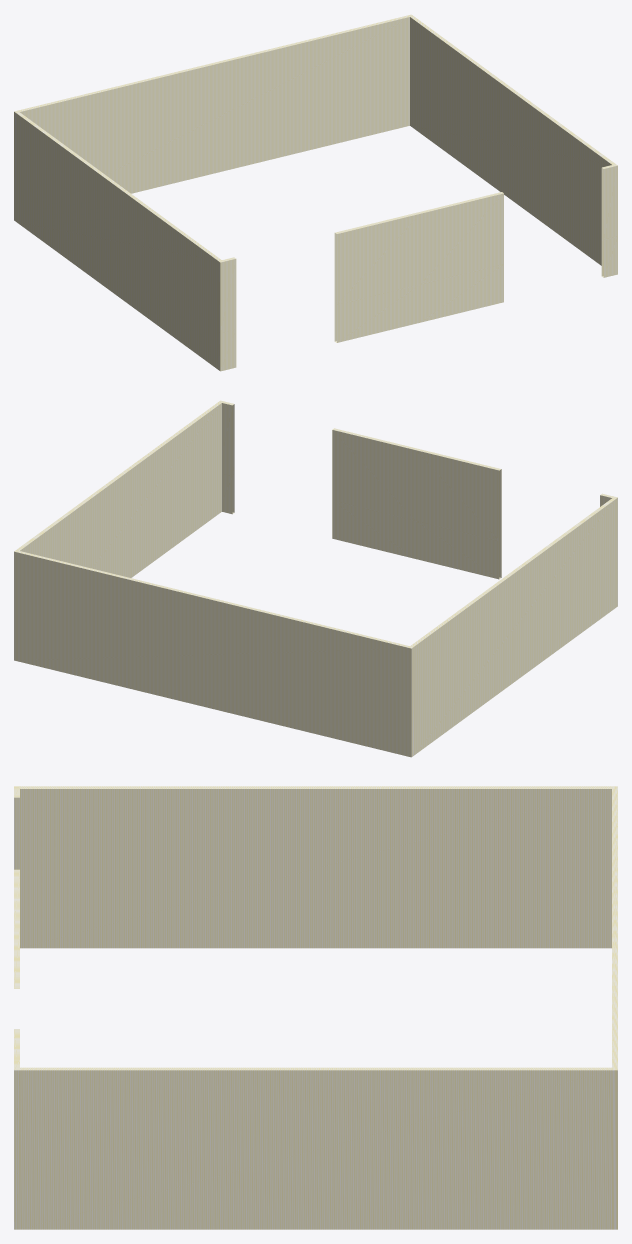
File: FBX_Walls.fbx
The picture shows the model from 3 angles, top to bottom: view 1: azimuth 30°, elevation 25°; view 2: azimuth 150°, elevation 25°; view 3: azimuth 270°, elevation 25°; orthographic projection. The views are drawn at different scales.
Parts seen in each view (by area): view 1: Walls1; view 2: Walls1; view 3: Walls1.
Part boxes in pixels (left/top/right/bottom): Walls1: left=14, top=14, right=617, bottom=371; Walls1: left=14, top=400, right=617, bottom=757; Walls1: left=14, top=786, right=617, bottom=1229.
Bounding box in the file's own units: 1104 × 289 × 993.
1 material, 1 textured.
